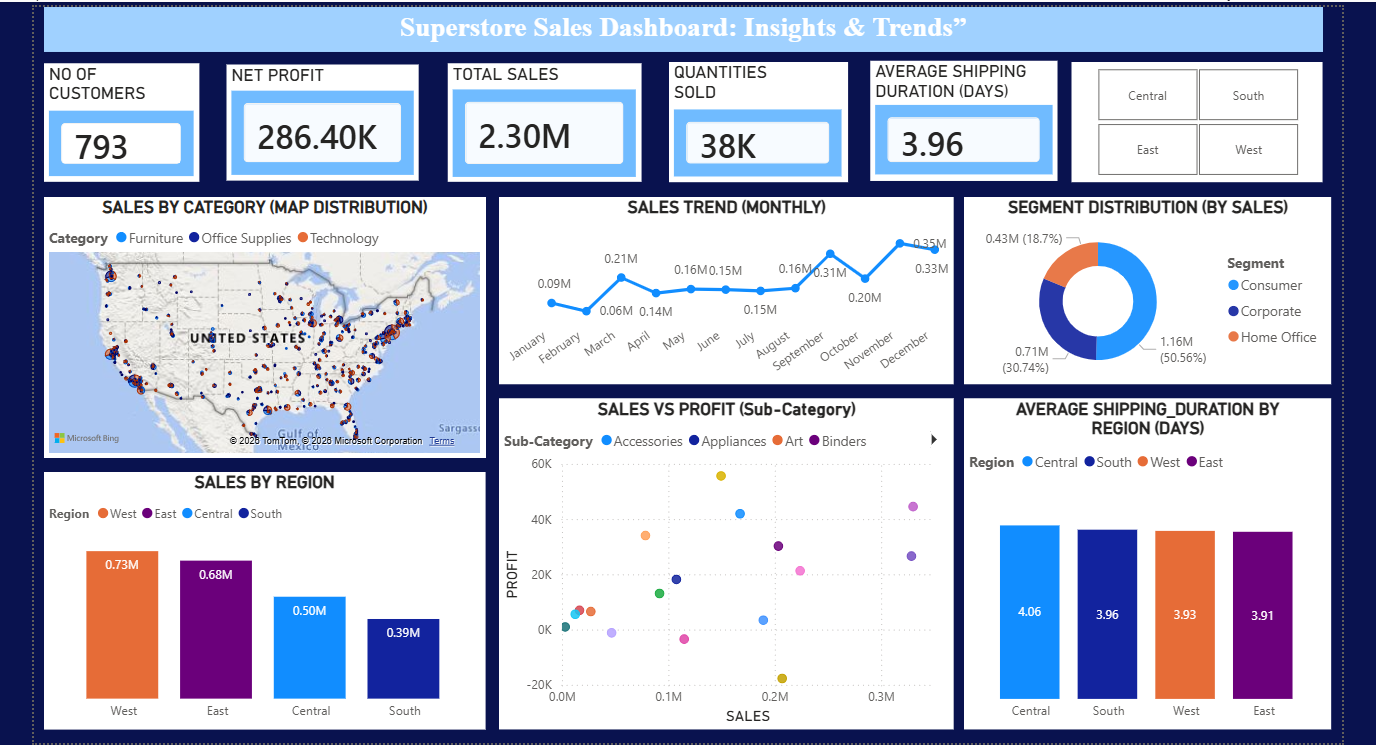

The page's visual inventory and layout, read from the dashboard file:
{"tool":"powerbi","page":{"name":"Page 2","canvas":[1448,720],"ordinal":0},"visuals":[{"type":"cardVisual","title":"NO OF CUSTOMERS","fields":{"Data":["Count(Sample - Superstore.Customer ID)"]},"box":[40.8,78.9,215.7,89.4],"z":0},{"type":"cardVisual","title":"NET PROFIT","fields":{"Data":["Sum(Sample - Superstore.Profit)"]},"box":[265.7,78.9,215.7,89.4],"z":1000},{"type":"cardVisual","title":"NET SALES","fields":{"Data":["Sum(Sample - Superstore.Sales)"]},"box":[507.7,78.9,215.7,89.4],"z":2000},{"type":"cardVisual","title":"QUANTITIES SOLD","fields":{"Data":["Sum(Sample - Superstore.Quantity)"]},"box":[735.3,85.5,214.4,89.4],"z":3000},{"type":"slicer","fields":{"Values":["Sample - Superstore.Region"]},"box":[1164.1,78.9,298.6,101.3],"z":4000},{"type":"cardVisual","title":"AVG SHIPPING DURATION","fields":{"Data":["Avg(Sample - Superstore.shipping_duration)"]},"box":[964.2,78.9,215.7,89.4],"z":5000},{"type":"map","title":"SALES BY CATEGORY (MAP DISTRIBUTION)","fields":{"Category":["Sample - Superstore.City","Sample - Superstore.Country"],"Series":["Sample - Superstore.Category"]},"box":[40.8,193.4,482.8,256.5],"z":6000},{"type":"lineChart","title":"SALES TREND (MONTHLY)","fields":{"Category":["Sample - Superstore.Order Date.Variation.Date Hierarchy.Month"],"Y":["Sum(Sample - Superstore.Sales)"]},"box":[538,193.4,501.2,256.5],"z":7000},{"type":"donutChart","title":"SEGMENT DISTRIBUTION (BY SALES)","fields":{"Category":["Sample - Superstore.Segment"],"Y":["Sum(Sample - Superstore.Sales)"]},"box":[1058.9,193.4,389.4,256.5],"z":8000},{"type":"columnChart","title":"SALES BY REGION","fields":{"Category":["Sample - Superstore.Region"],"Y":["Sum(Sample - Superstore.Sales)"],"Series":["Sample - Superstore.Region"]},"box":[42.1,463,482.8,256.5],"z":8001},{"type":"scatterChart","title":"SALES VS PROFIT (Sub-Category)","fields":{"X":["Sum(Sample - Superstore.Sales)"],"Series":["Sample - Superstore.Sub-Category"],"Y":["Sum(Sample - Superstore.Profit)"]},"box":[538,463,501.2,256.5],"z":8002},{"type":"columnChart","title":"AVERAGE SHIPPING_DURATION BY REGION (DAYS)","fields":{"Category":["Sample - Superstore.Region"],"Y":["Avg(Sample - Superstore.shipping_duration)"],"Series":["Sample - Superstore.Region"]},"box":[1049.7,463,398.6,256.5],"z":8003},{"type":"textbox","box":[40.8,0,1394.3,68.4],"z":8004}]}

Visuals, with their boxes in screenshot pixels (x1, y1, x2, y2):
"NO OF CUSTOMERS" cardVisual: <box>44,71,239,152</box>
"NET PROFIT" cardVisual: <box>247,71,442,152</box>
"NET SALES" cardVisual: <box>466,71,661,152</box>
"QUANTITIES SOLD" cardVisual: <box>672,77,866,158</box>
slicer - Sample - Superstore.Region: <box>1059,71,1329,163</box>
"AVG SHIPPING DURATION" cardVisual: <box>879,71,1074,152</box>
"SALES BY CATEGORY (MAP DISTRIBUTION)" map: <box>44,175,480,407</box>
"SALES TREND (MONTHLY)" lineChart: <box>493,175,947,407</box>
"SEGMENT DISTRIBUTION (BY SALES)" donutChart: <box>964,175,1316,407</box>
"SALES BY REGION" columnChart: <box>45,419,482,650</box>
"SALES VS PROFIT (Sub-Category)" scatterChart: <box>493,419,947,650</box>
"AVERAGE SHIPPING_DURATION BY REGION (DAYS)" columnChart: <box>956,419,1316,650</box>
textbox: <box>44,0,1304,62</box>
